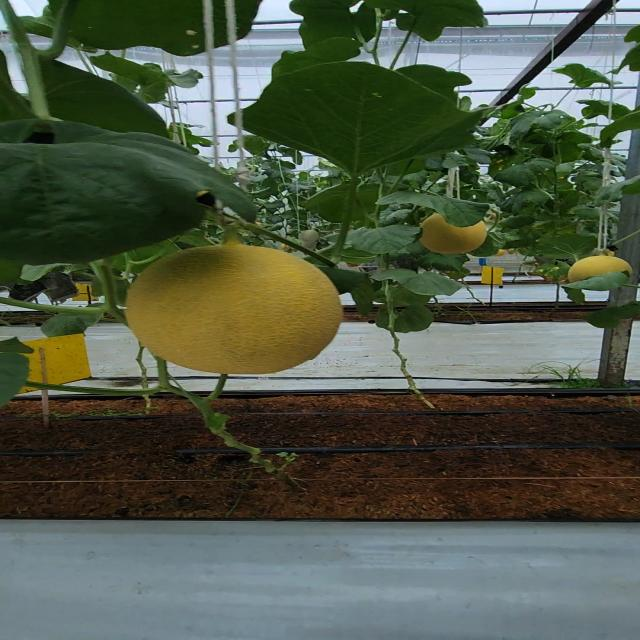Melon: (116, 243, 354, 379), (415, 213, 498, 256), (563, 254, 631, 284)
